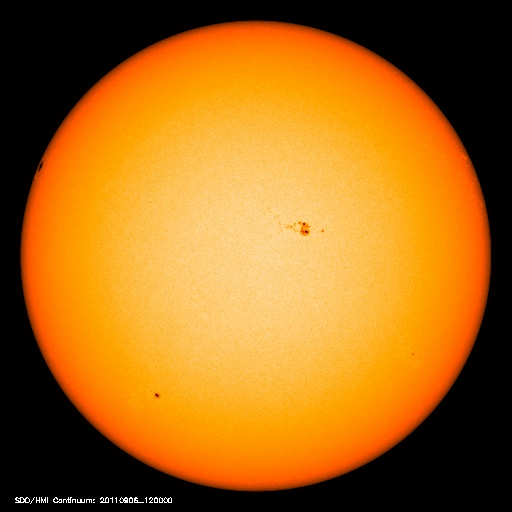sunspot: (270, 207, 328, 243), (121, 384, 170, 409), (28, 153, 57, 184)
